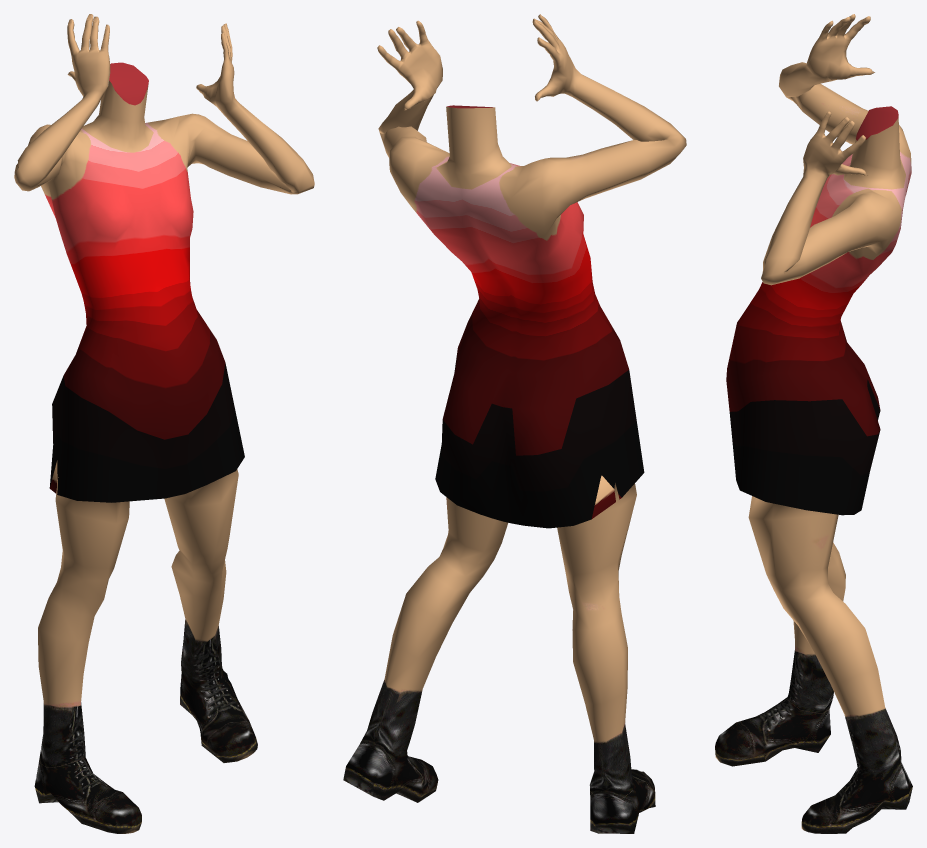
Rendered from MainBody.FBX.
3 views of the same model, side by side, from view 1: azimuth 30°, elevation 25°; view 2: azimuth 150°, elevation 25°; view 3: azimuth 270°, elevation 25° (orthographic). The views are drawn at different scales.
Parts seen in each view (by area): view 1: MainBody; view 2: MainBody; view 3: MainBody.
Boxes of the visible parts, box(x1,y1,x2,y2) form: MainBody: box(14, 14, 314, 833); MainBody: box(343, 14, 686, 833); MainBody: box(715, 14, 912, 833).
Size of the model in its own units: 28.46 by 17.06 by 72.11.
Materials: 4 (1 with a texture image).
